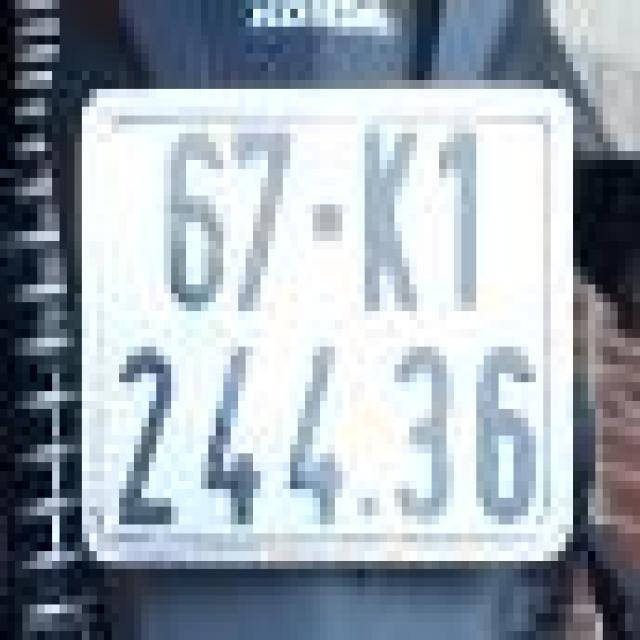1: (424, 133, 491, 329)
2: (96, 298, 178, 538)
3: (376, 329, 443, 524)
4: (186, 311, 261, 533), (264, 324, 346, 520)
6: (160, 120, 227, 324), (480, 342, 547, 538)
7: (223, 129, 298, 324)
K: (354, 129, 413, 324)
